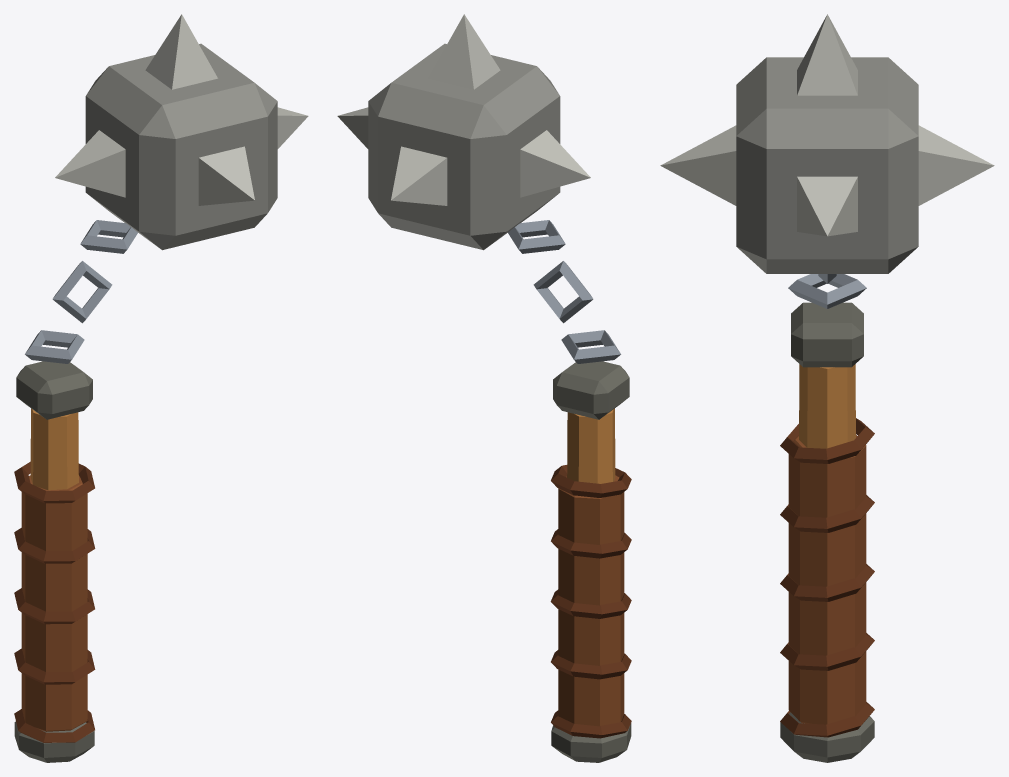
Rendered from StoneFlail.fbx.
3 renders of one model, left to right at view 1: azimuth 30°, elevation 25°; view 2: azimuth 150°, elevation 25°; view 3: azimuth 270°, elevation 25°, orthographic. The views are drawn at different scales.
Visible parts, largest first — view 1: StoneFlail; view 2: StoneFlail; view 3: StoneFlail.
Boxes of the visible parts, bbox=[...] form: StoneFlail: bbox=[14, 14, 308, 762]; StoneFlail: bbox=[337, 14, 631, 762]; StoneFlail: bbox=[660, 14, 994, 762].
Size of the model in its own units: 1.26 by 2.92 by 1.1.
1 material, 1 textured.
